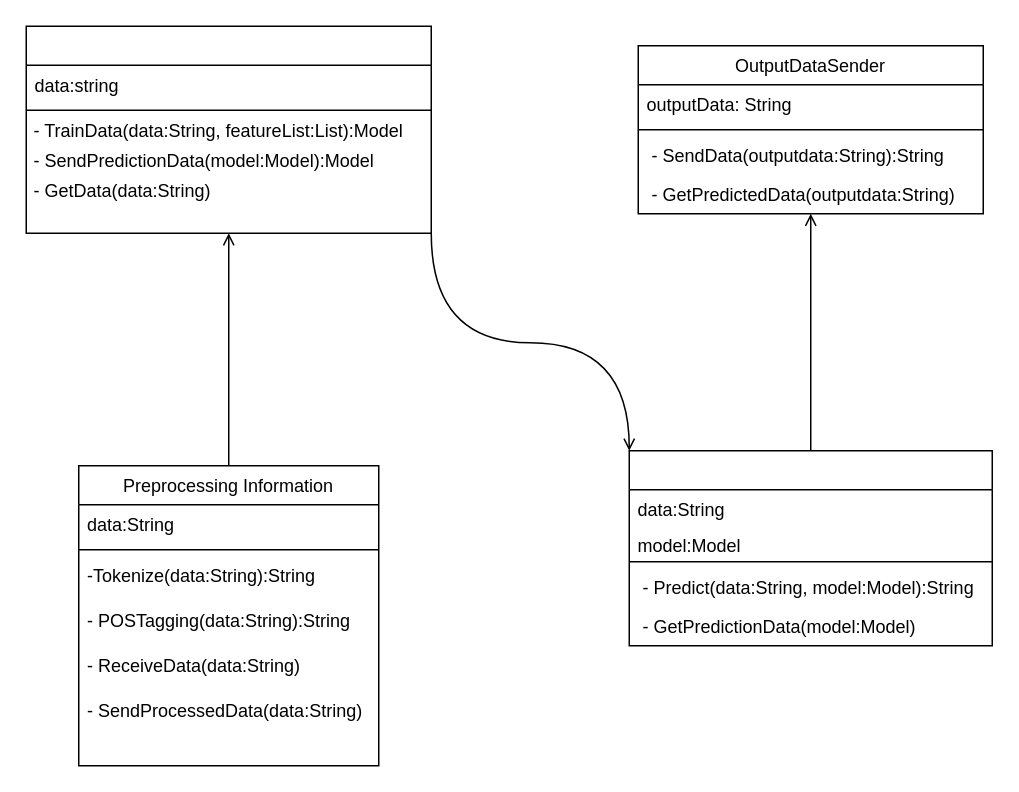
Image size: 1019x792. Some labels were removed from this diagram. The box of each missing label's shape, as (x1, y1, x2, y2) in pixels:
Prediction System: (628, 449, 992, 646)
TrainingModule: (25, 25, 431, 233)
